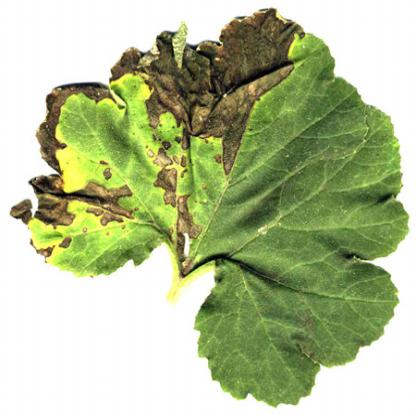Tomato leaf bacterial spot: (18, 7, 300, 278)
